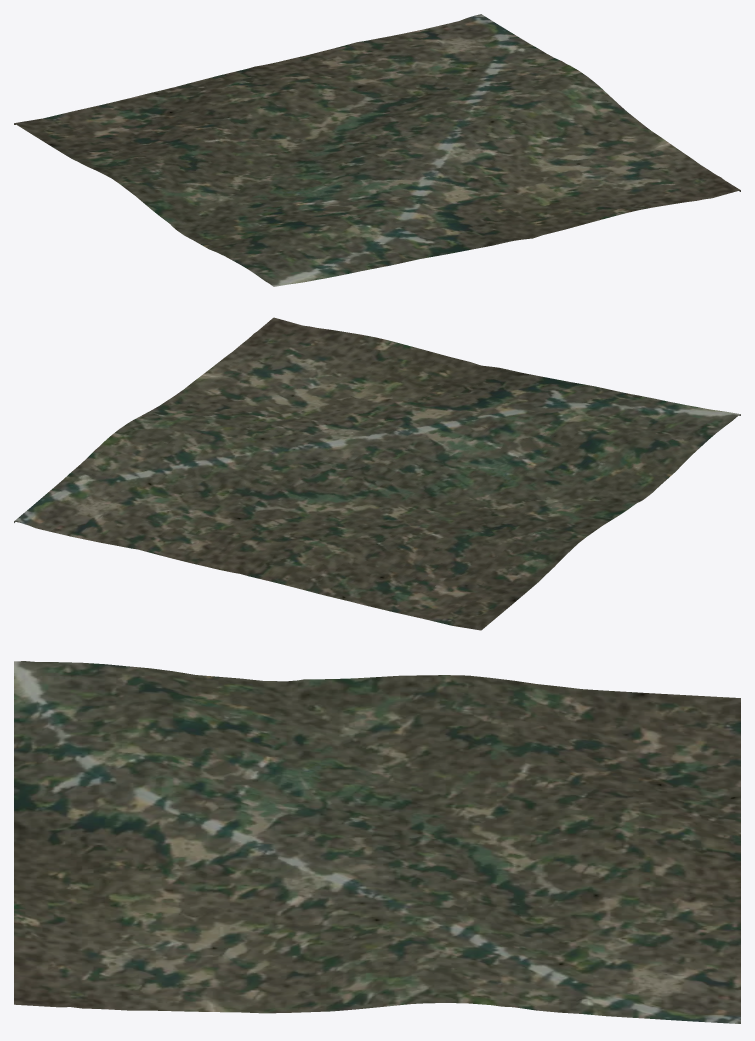
The picture shows the model from 3 angles, top to bottom: view 1: azimuth 30°, elevation 25°; view 2: azimuth 150°, elevation 25°; view 3: azimuth 270°, elevation 25°; orthographic projection. The views are drawn at different scales.
Bounding box in the file's own units: 250 × 17.82 × 241.
1 material, 1 textured.
